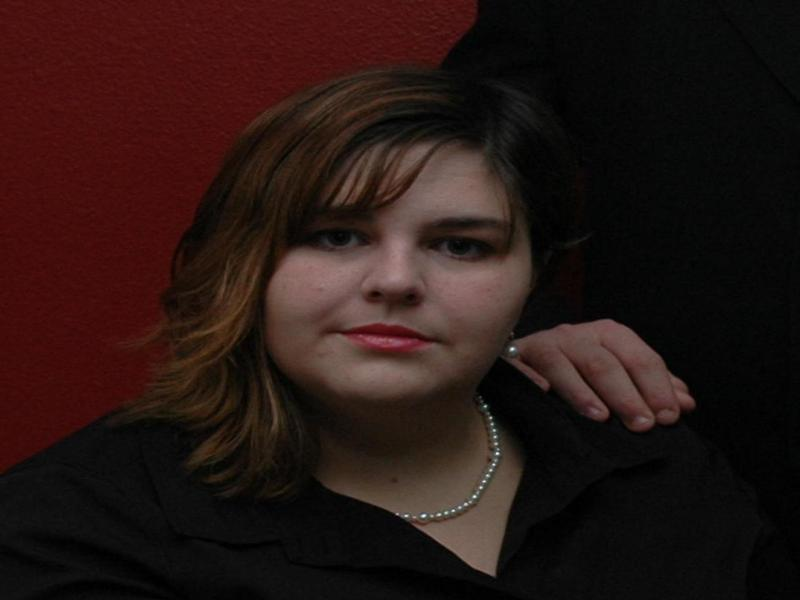person: (7, 67, 776, 600)
